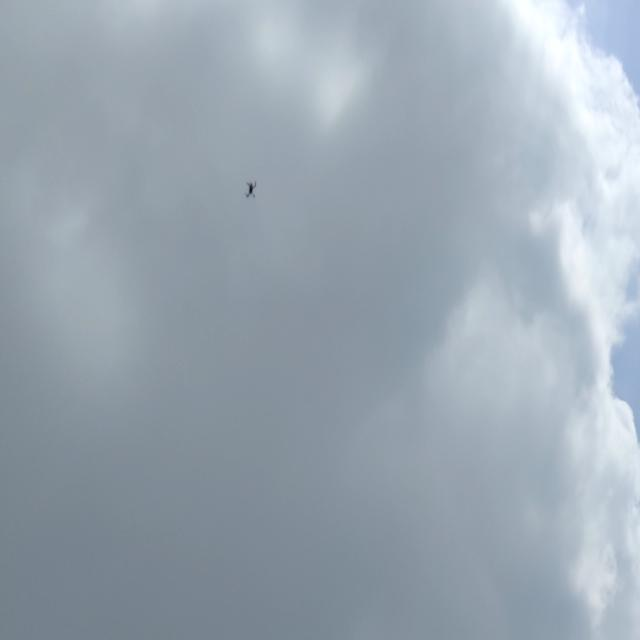drone: (238, 171, 262, 203)
